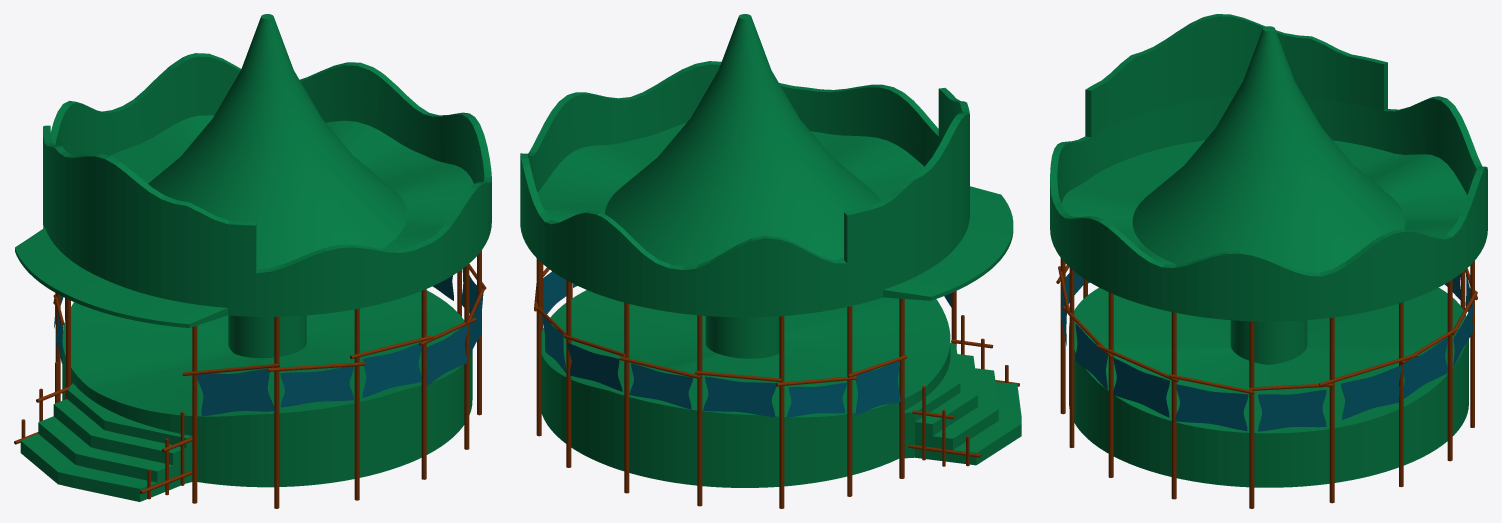
The model's file is Catch Me.fbx.
The picture shows the model from 3 angles, left to right: view 1: azimuth 30°, elevation 25°; view 2: azimuth 150°, elevation 25°; view 3: azimuth 270°, elevation 25°; orthographic projection. The views are drawn at different scales.
Parts seen in each view (by area): view 1: CatchMeIfYouCan; view 2: CatchMeIfYouCan; view 3: CatchMeIfYouCan.
Part boxes in pixels (bbox=[...]): CatchMeIfYouCan: bbox=[14, 14, 491, 508]; CatchMeIfYouCan: bbox=[520, 14, 1021, 508]; CatchMeIfYouCan: bbox=[1050, 14, 1487, 508].
Bounding box in the file's own units: 12.58 × 11.02 × 11.16.
